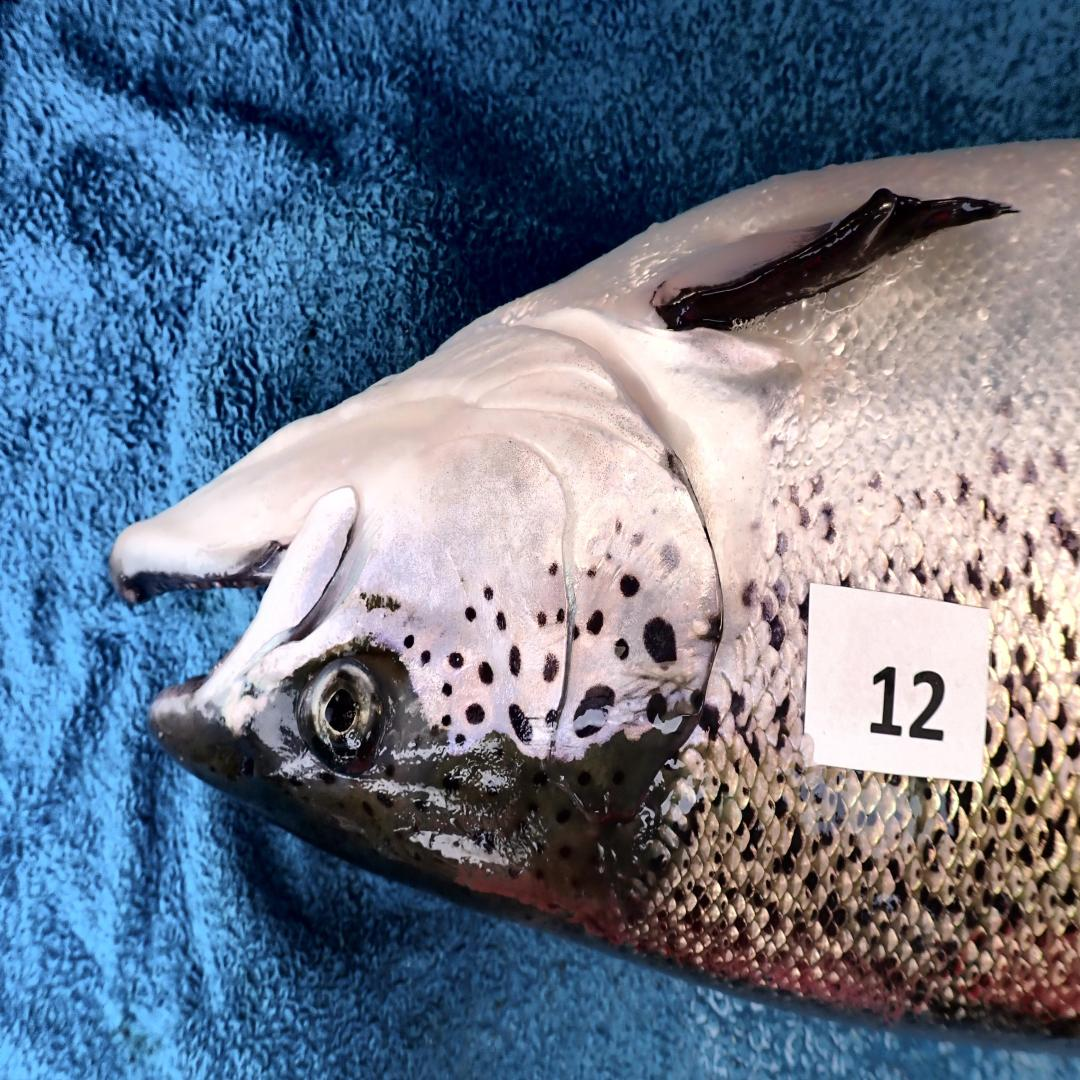spot: (574, 686, 614, 737), (643, 616, 677, 664), (508, 703, 532, 742), (645, 692, 667, 728), (660, 543, 681, 574), (702, 610, 721, 641), (542, 652, 559, 681), (586, 610, 603, 636), (466, 703, 485, 726), (620, 574, 639, 596), (508, 647, 521, 675), (614, 638, 629, 661), (690, 689, 705, 712), (479, 661, 494, 683), (447, 652, 464, 669), (545, 709, 559, 726), (629, 532, 643, 548), (648, 503, 662, 518), (496, 610, 506, 630), (464, 608, 477, 622), (443, 683, 454, 698), (548, 562, 559, 577), (483, 585, 494, 599), (403, 636, 413, 650), (420, 650, 430, 664), (538, 610, 546, 627), (614, 518, 622, 534), (441, 714, 451, 726), (557, 608, 565, 622), (456, 734, 466, 745), (574, 624, 580, 638), (589, 568, 597, 577), (605, 553, 612, 561)
